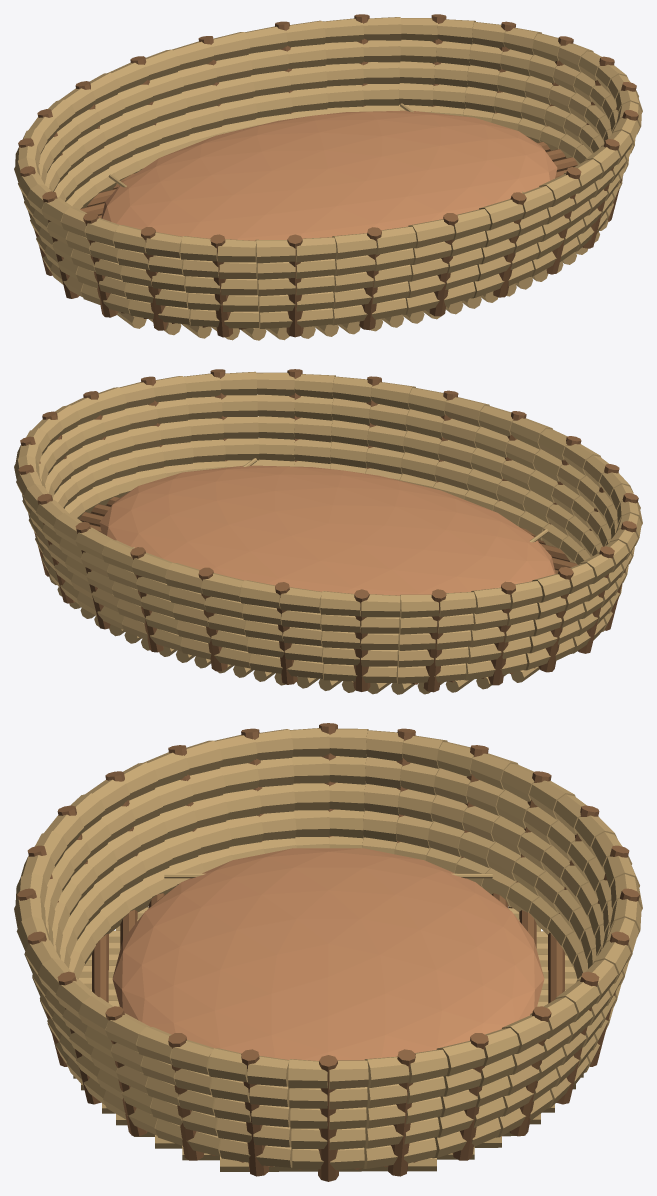
3 views of the same model, one above another, from view 1: azimuth 30°, elevation 25°; view 2: azimuth 150°, elevation 25°; view 3: azimuth 270°, elevation 25° (orthographic). The views are drawn at different scales.
Parts seen in each view (by area): view 1: GF-196 Woven companion resting bed batched; view 2: GF-196 Woven companion resting bed batched; view 3: GF-196 Woven companion resting bed batched.
Boxes of the visible parts, left/top/right/bottom form: GF-196 Woven companion resting bed batched: left=14, top=14, right=642, bottom=340; GF-196 Woven companion resting bed batched: left=14, top=369, right=642, bottom=694; GF-196 Woven companion resting bed batched: left=14, top=723, right=642, bottom=1181.
Size of the model in its own units: 0.9479 by 0.1796 by 0.728.
